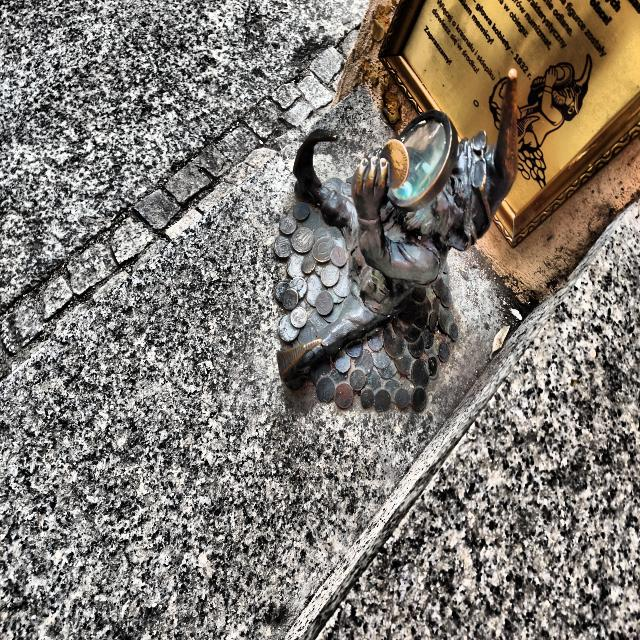Numizmatyk: (274, 70, 519, 412)
